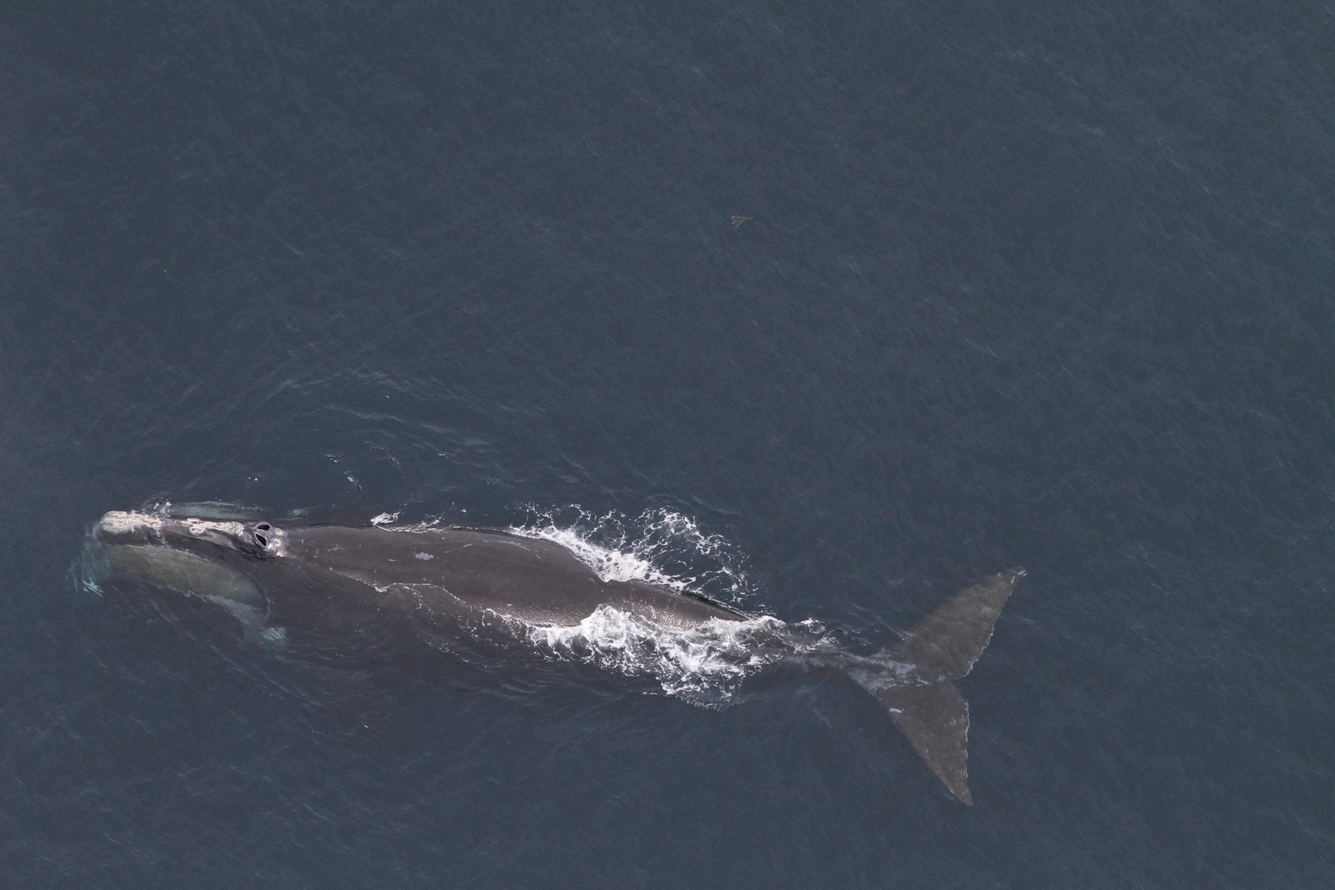whale: (84, 494, 1033, 814)
